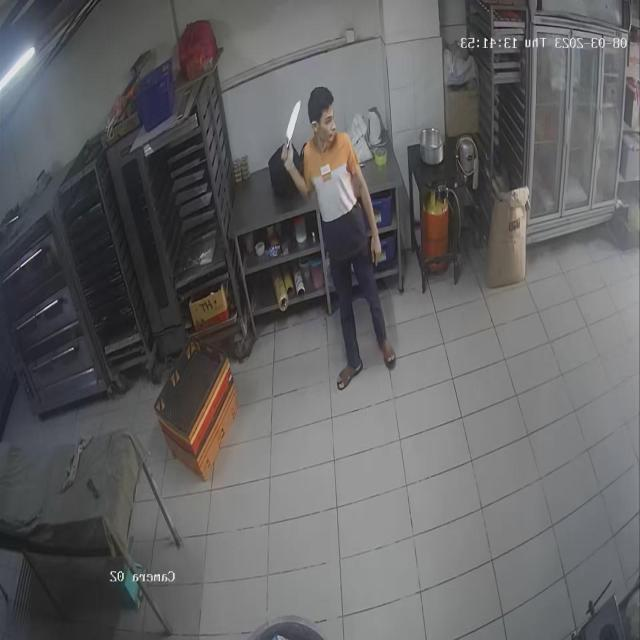Knife: (282, 93, 304, 157)
